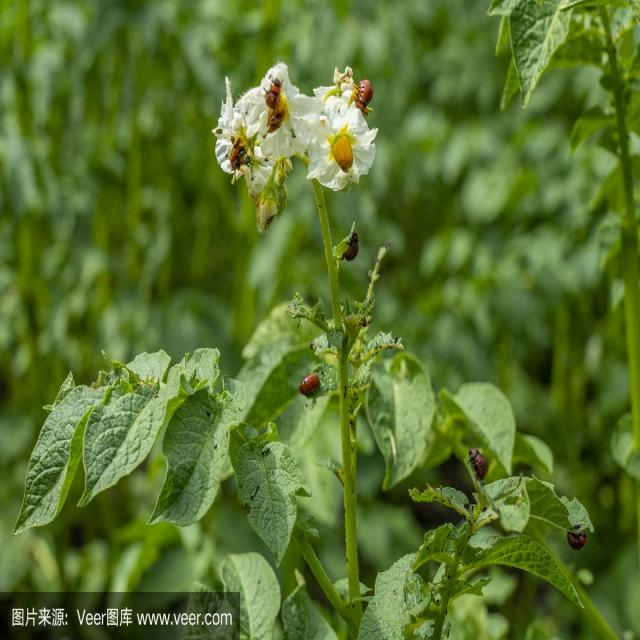ShuCaiHuaBanChong-Larva-: (351, 67, 384, 116), (466, 434, 492, 489), (300, 364, 322, 400)
